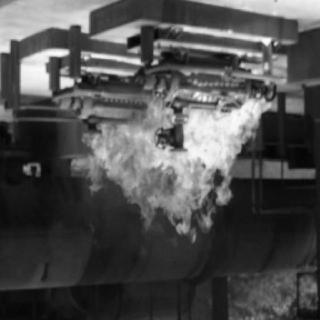Fire: (82, 97, 276, 249)
